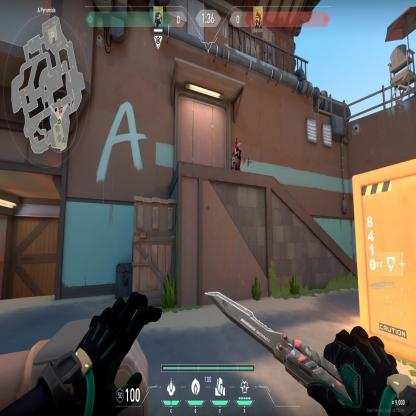enemy: (230, 135, 243, 171)
